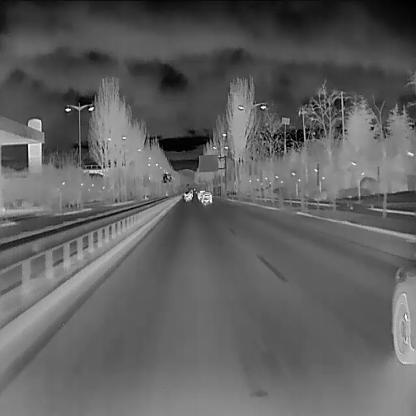car: (390, 247, 415, 363), (199, 191, 212, 203), (183, 190, 192, 200), (198, 188, 205, 200), (192, 187, 195, 190)
